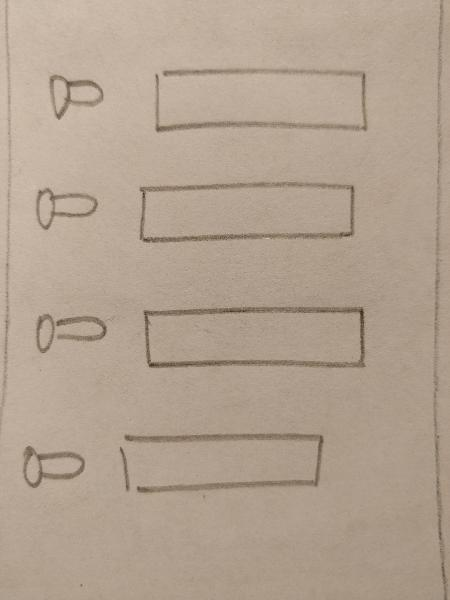switch: (29, 300, 107, 361), (16, 435, 94, 496), (37, 66, 105, 127), (31, 176, 99, 237)
text_input: (137, 296, 372, 377), (149, 64, 372, 143), (135, 172, 358, 251), (115, 426, 329, 492)
